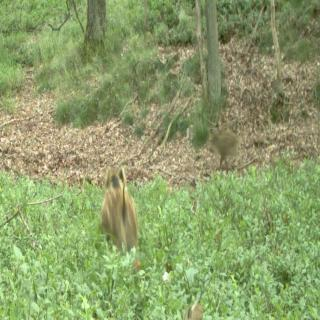Pig: (91, 148, 158, 255), (200, 93, 259, 170)
